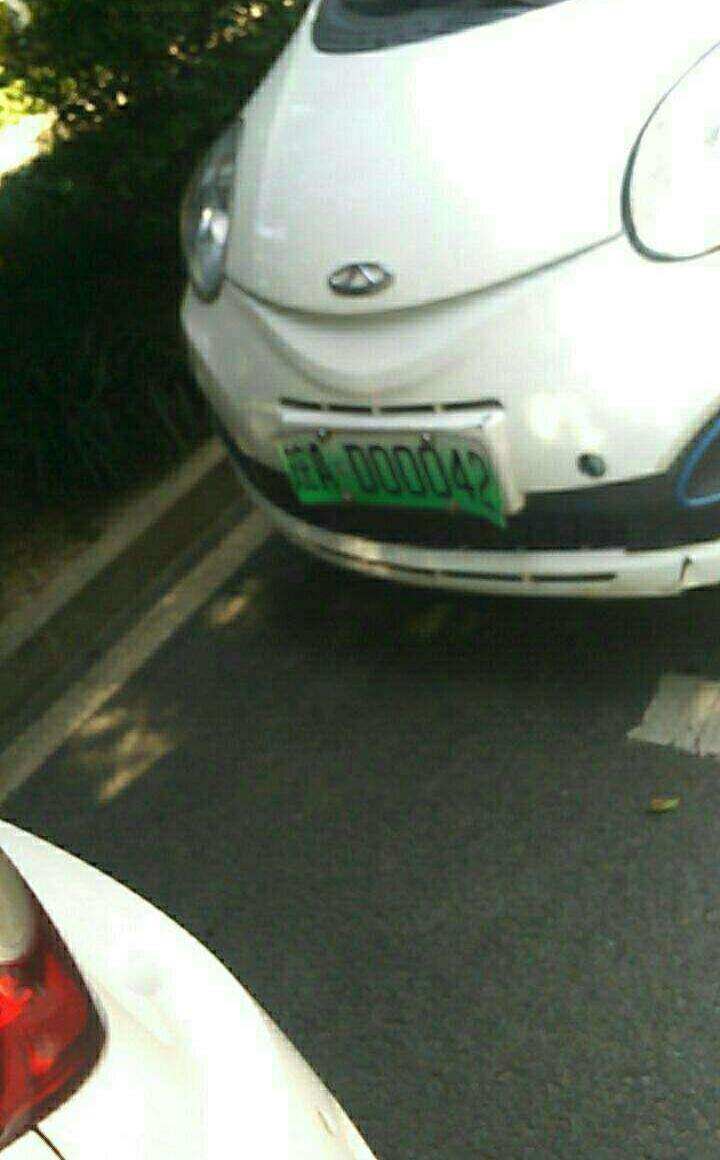car_id: (281, 421, 497, 519)
